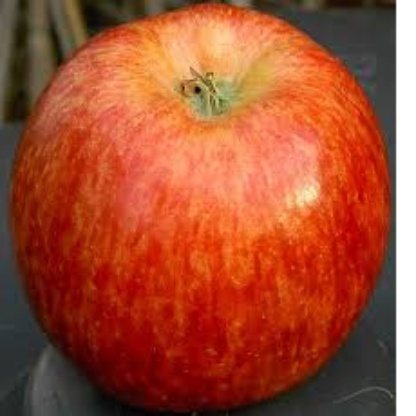tao: (10, 9, 388, 406)
